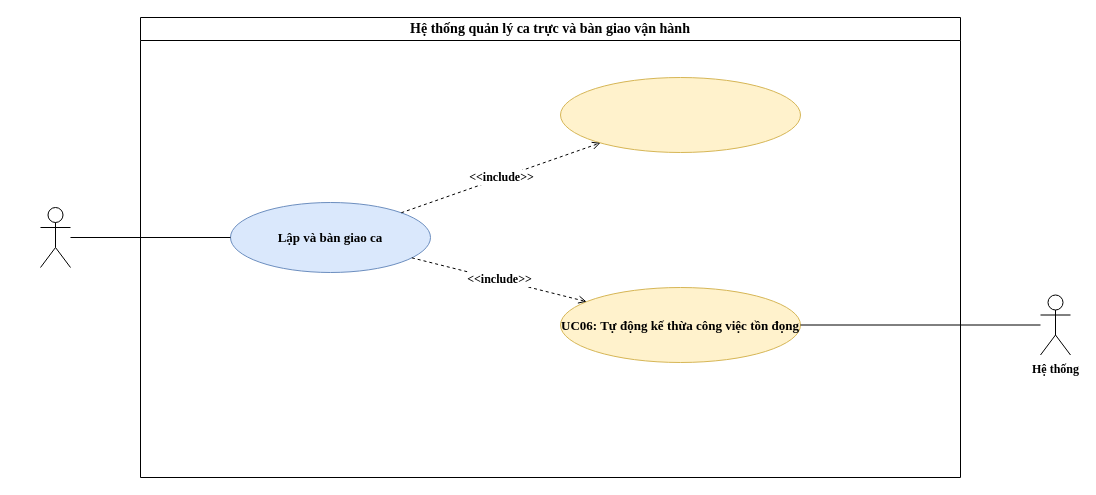
This 1096x495 diagram has some shape labels left out. The shapes that lost their labels are listed below. From the top down, each one's centre as x and y in pixels, then its label:
At pixel 680 114: "UC05: Tổng hợp nhật ký ca hiện tại".
At pixel 55 237: "Nhân viên trực".
